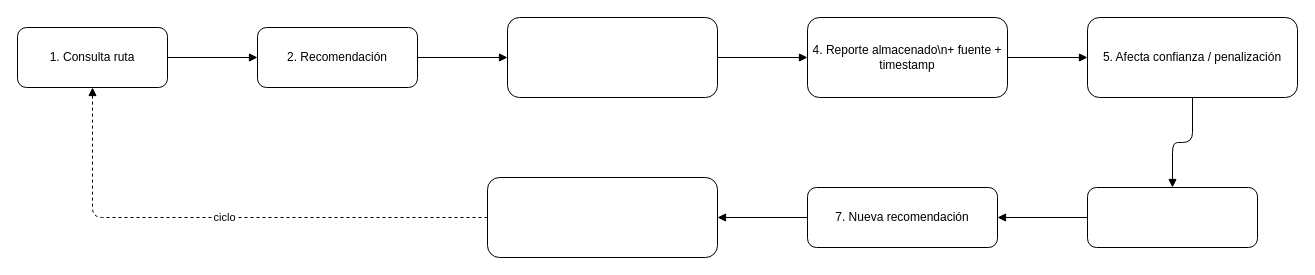
Image size: 1315x275. Some labels were removed from this diagram. The shapes that lost their labels are listed below. From the top down, each one's box as (x1, y1, x2, y2) in pixels, then its label:
(506, 16, 718, 98): 3. Usuario reporta\nbloqueo/retraso/cambio
(486, 176, 718, 258): 8. Nuevo usuario recibe información actualizada
(1086, 186, 1258, 248): 6. Motor recalcula
